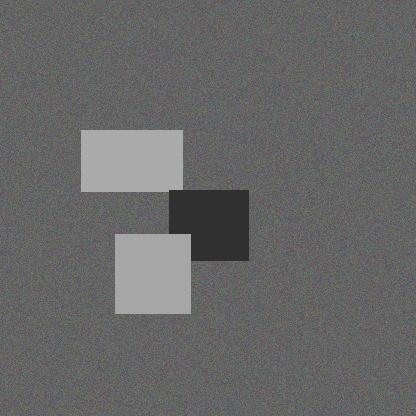empty: (84, 246, 163, 312), (64, 205, 121, 249)
occupied: (223, 203, 305, 266), (82, 176, 124, 251)
